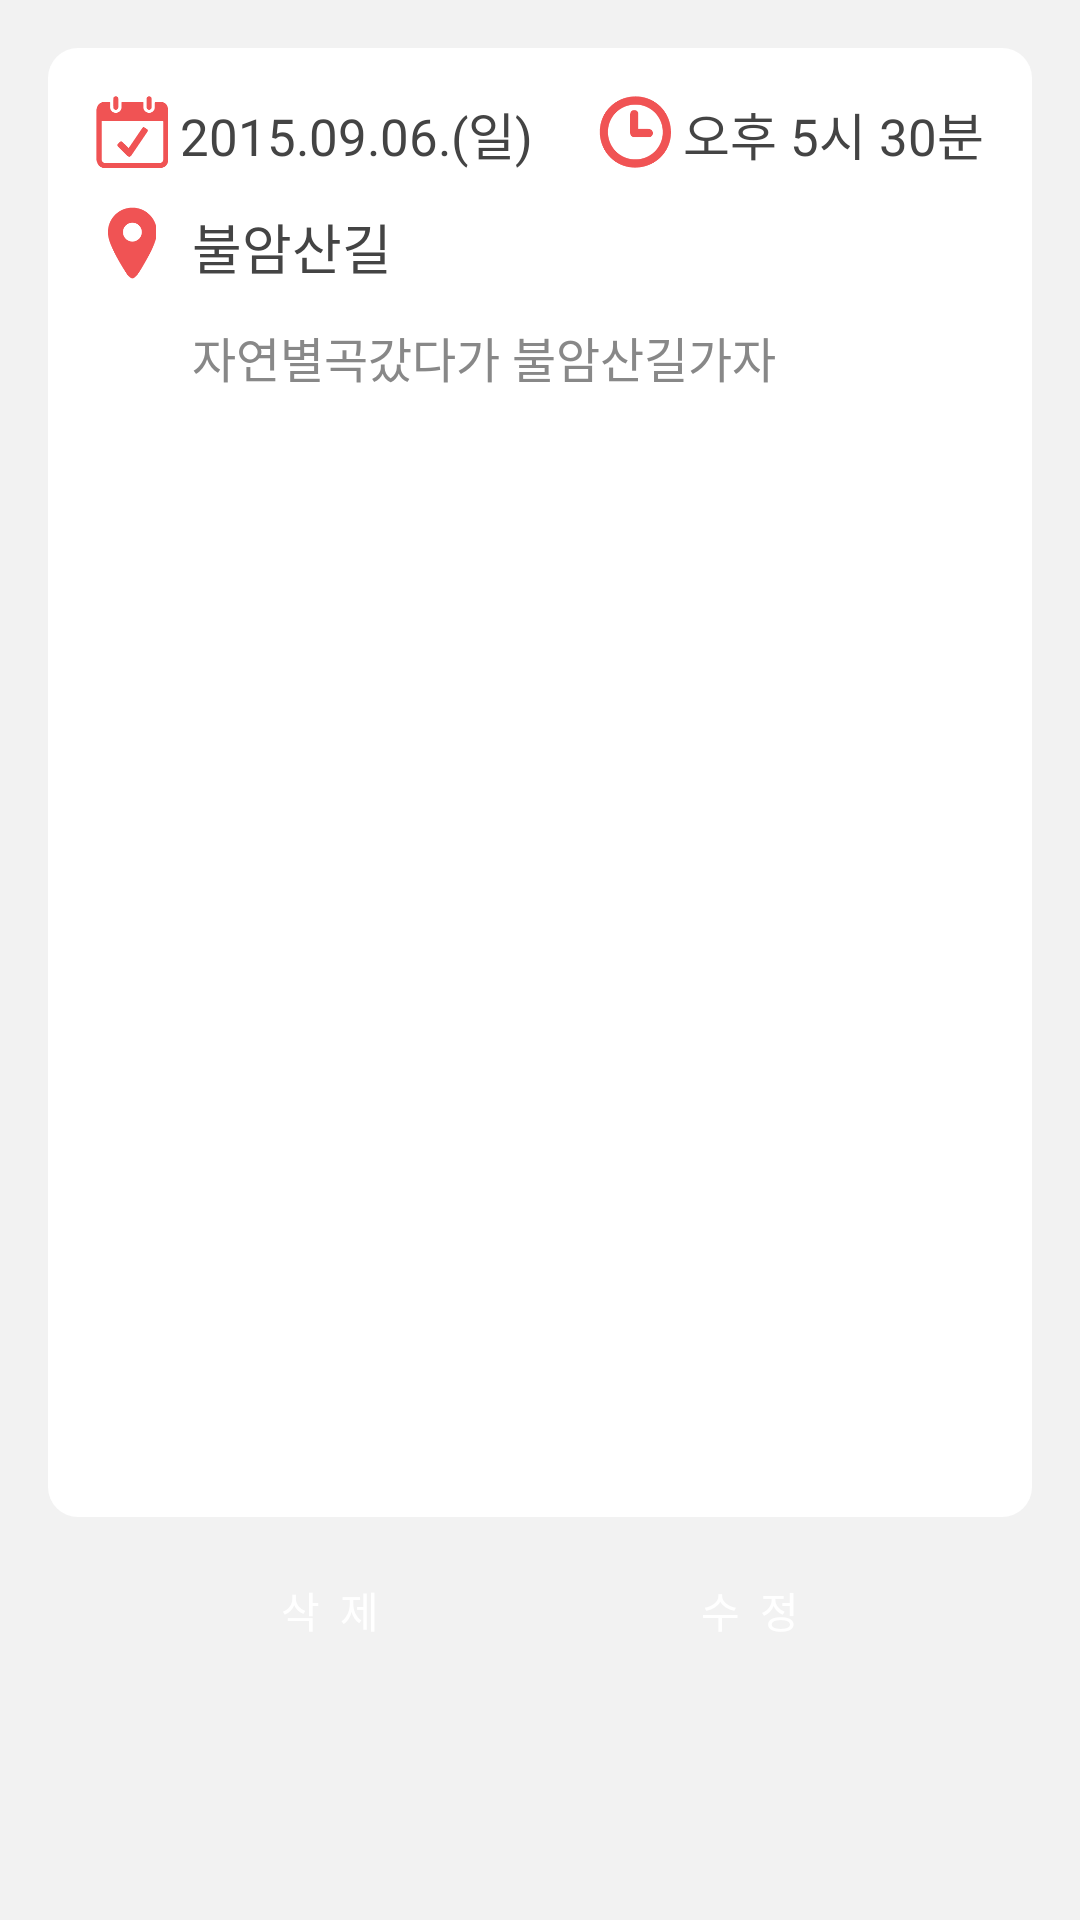

Screen size 1080 × 1920. Icon name, then its center in pixels as point (x, y):
sch date: point (132, 132)
sch location: point (132, 243)
sch time: point (635, 132)
